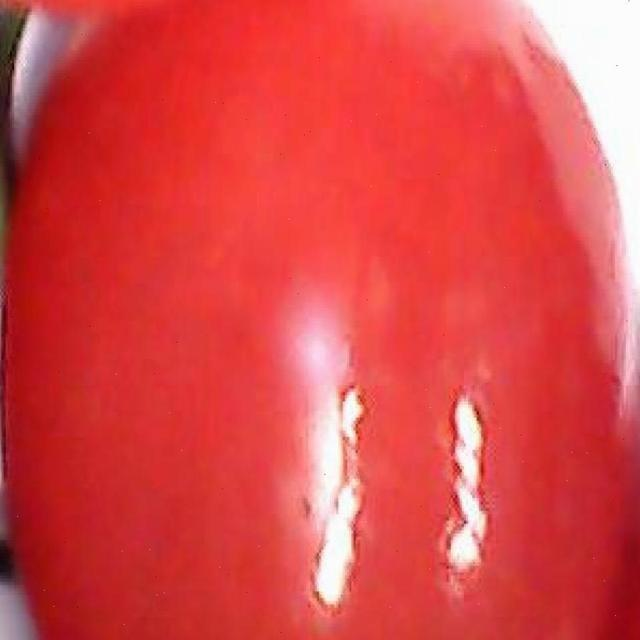Healthy Fruit: (0, 0, 426, 423)
